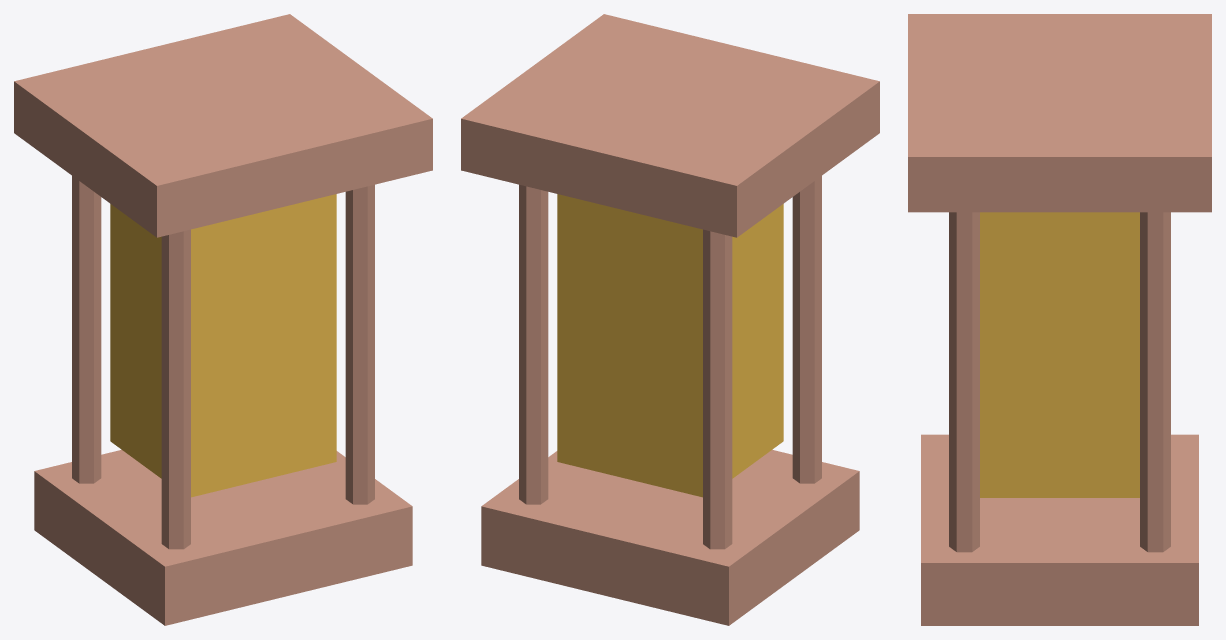
3 renders of one model, left to right at view 1: azimuth 30°, elevation 25°; view 2: azimuth 150°, elevation 25°; view 3: azimuth 270°, elevation 25°, orthographic. The views are drawn at different scales.
Visible parts, largest first — view 1: Lantern roof, Lantern light core, Lantern base, Lantern pillar, Lantern pillar.002, Lantern pillar.001; view 2: Lantern roof, Lantern light core, Lantern base, Lantern pillar.001, Lantern pillar.003, Lantern pillar; view 3: Lantern roof, Lantern light core, Lantern base, Lantern pillar.002, Lantern pillar.003.
Boxes of the visible parts, <box> form: Lantern roof: <box>14,14,432,237</box>; Lantern light core: <box>110,194,336,497</box>; Lantern base: <box>34,449,412,625</box>; Lantern pillar: <box>161,229,190,549</box>; Lantern pillar.002: <box>345,184,374,504</box>; Lantern pillar.001: <box>72,176,101,483</box>; Lantern roof: <box>461,14,879,237</box>; Lantern light core: <box>557,194,783,497</box>; Lantern base: <box>481,449,859,625</box>; Lantern pillar.001: <box>703,229,732,549</box>; Lantern pillar.003: <box>519,184,548,504</box>; Lantern pillar: <box>792,176,821,483</box>; Lantern roof: <box>908,14,1211,212</box>; Lantern light core: <box>980,212,1139,497</box>; Lantern base: <box>921,434,1198,625</box>; Lantern pillar.002: <box>949,212,979,552</box>; Lantern pillar.003: <box>1140,212,1170,552</box>.
Bounding box in the file's own units: 39 × 60.5 × 35.
